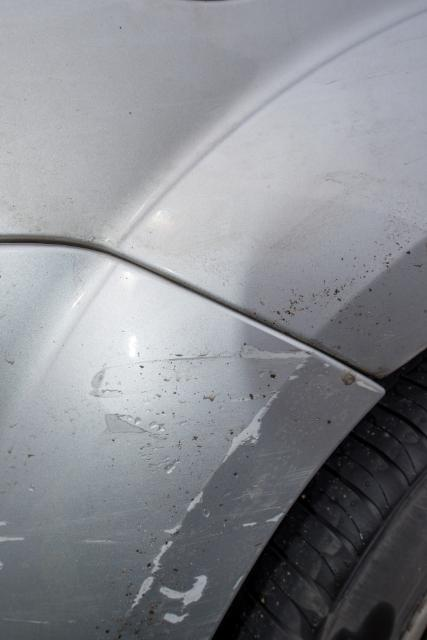scratch: (0, 341, 319, 640)
